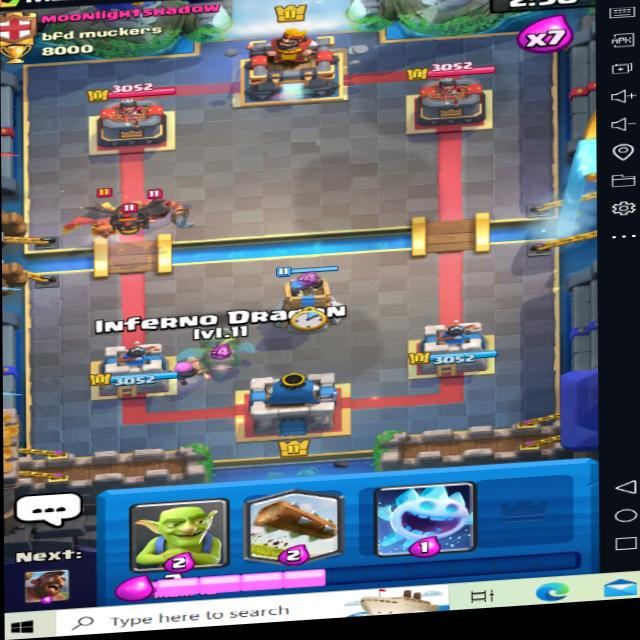fisherman: (114, 183, 197, 227)
lava-hound: (90, 186, 174, 236)
phoenix: (64, 186, 165, 239)
